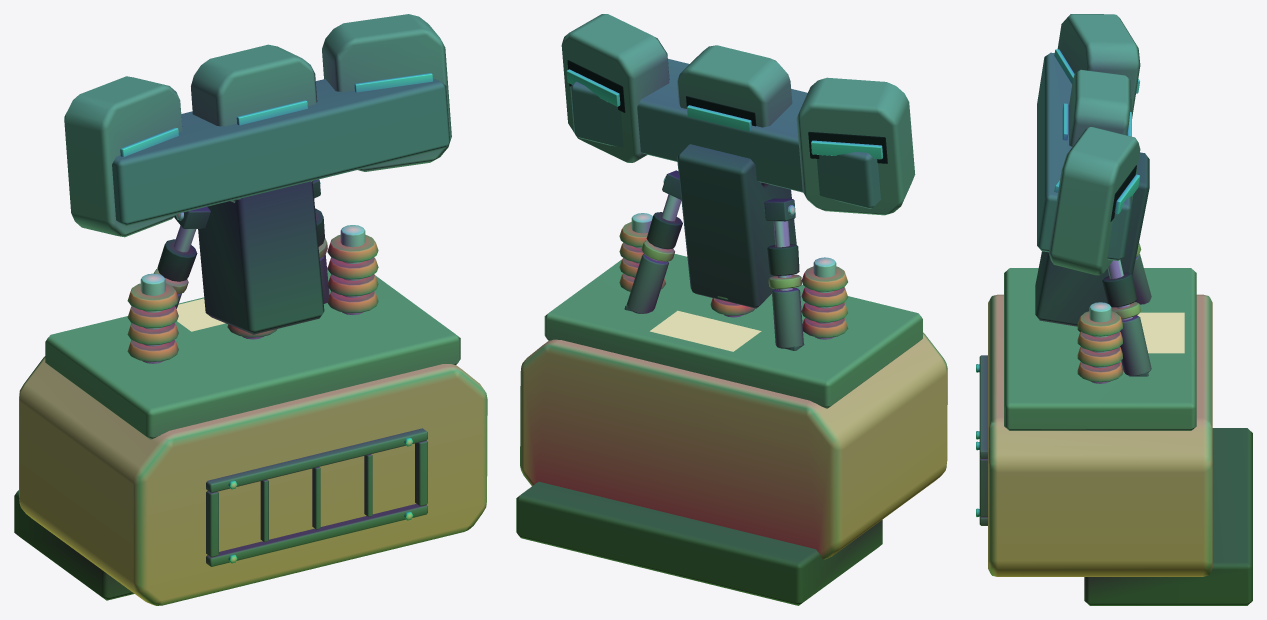
The model's file is back_shield.glb.
3 renders of one model, left to right at view 1: azimuth 30°, elevation 25°; view 2: azimuth 150°, elevation 25°; view 3: azimuth 270°, elevation 25°, orthographic. The views are drawn at different scales.
Visible parts, largest first — view 1: Body__armor, Body__armor_sub, Body__gunmetal, Body__dark, Body__copper, Body__chrome, Body__emit_cyan, Body__rubber, Body__decal; view 2: Body__armor, Body__armor_sub, Body__dark, Body__gunmetal, Body__copper, Body__emit_cyan, Body__decal, Body__bore, Body__chrome, Body__rubber, Body__brass; view 3: Body__armor, Body__armor_sub, Body__dark, Body__gunmetal, Body__copper, Body__decal, Body__emit_cyan, Body__chrome, Body__rubber.
Boxes of the visible parts, x1,y1,x2,y2 form: Body__armor: (19,356,487,605); Body__armor_sub: (45,14,460,439); Body__gunmetal: (112,79,449,566); Body__dark: (14,179,324,600); Body__copper: (127,234,378,361); Body__chrome: (140,181,413,563); Body__emit_cyan: (120,73,432,156); Body__rubber: (157,208,324,281); Body__decal: (176,298,225,331); Body__armor: (520,332,947,559); Body__armor_sub: (544,14,922,408); Body__dark: (516,144,882,605); Body__gunmetal: (570,59,880,348); Body__copper: (619,222,848,337); Body__emit_cyan: (566,69,882,159); Body__decal: (650,310,761,351); Body__bore: (567,60,887,163); Body__chrome: (631,176,836,339); Body__rubber: (646,212,799,275); Body__brass: (641,240,801,288); Body__armor: (988,294,1212,576); Body__armor_sub: (1004,14,1196,430); Body__dark: (1035,152,1252,605); Body__gunmetal: (979,52,1151,525); Body__copper: (1077,311,1122,382); Body__decal: (1137,312,1184,353); Body__emit_cyan: (1054,49,1139,214); Body__chrome: (976,260,1132,516); Body__rubber: (1102,272,1136,307).
Bounding box in the file's own units: 0.9608 × 1.26 × 0.69.
